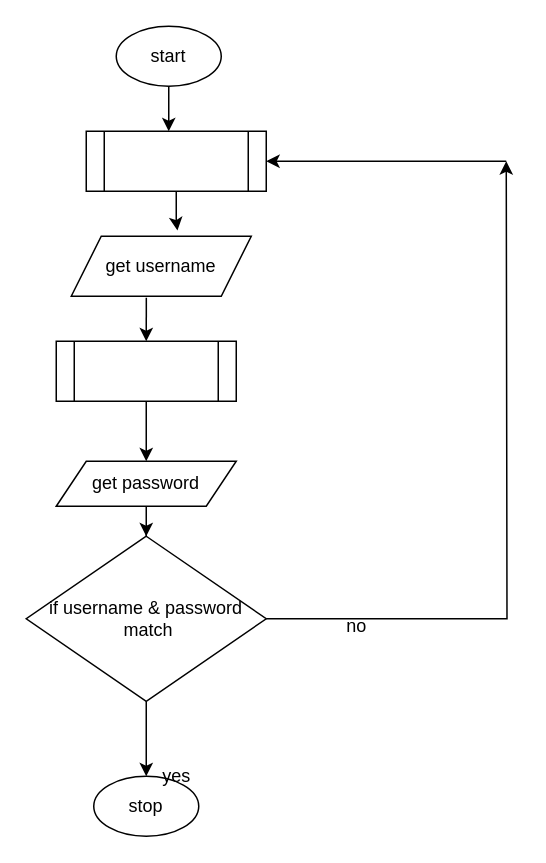
This 546x863 diagram has some shape labels left out. Each missing label, with the centre of its shape:
prompt for password: the point at 145,370
prompt for username: the point at 175,160
